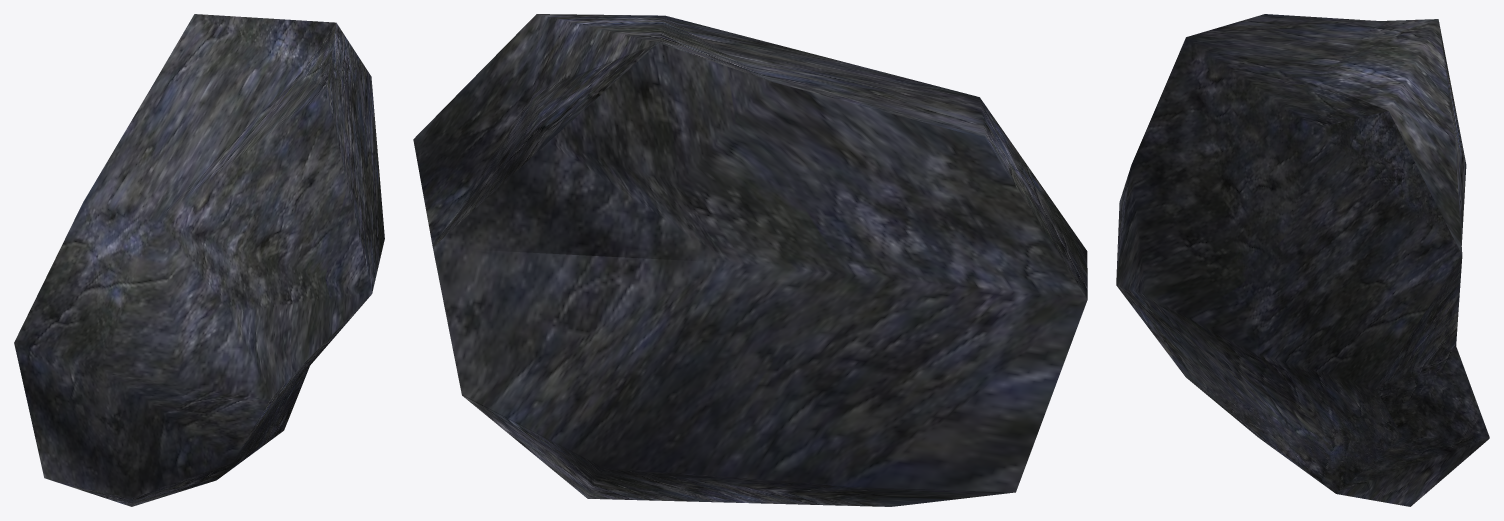
File: pir_m_prp_vol_rock_c.fbx
The picture shows the model from 3 angles, left to right: view 1: azimuth 30°, elevation 25°; view 2: azimuth 150°, elevation 25°; view 3: azimuth 270°, elevation 25°; orthographic projection. The views are drawn at different scales.
Parts seen in each view (by area): view 1: lod_high; view 2: lod_high; view 3: lod_high.
Boxes of the visible parts, x1,y1,x2,y2 form: lod_high: (14, 14, 384, 506); lod_high: (413, 14, 1087, 506); lod_high: (1116, 14, 1489, 506).
Size of the model in its own units: 3423 by 2865 by 2154.
Materials: 1 (1 with a texture image).
